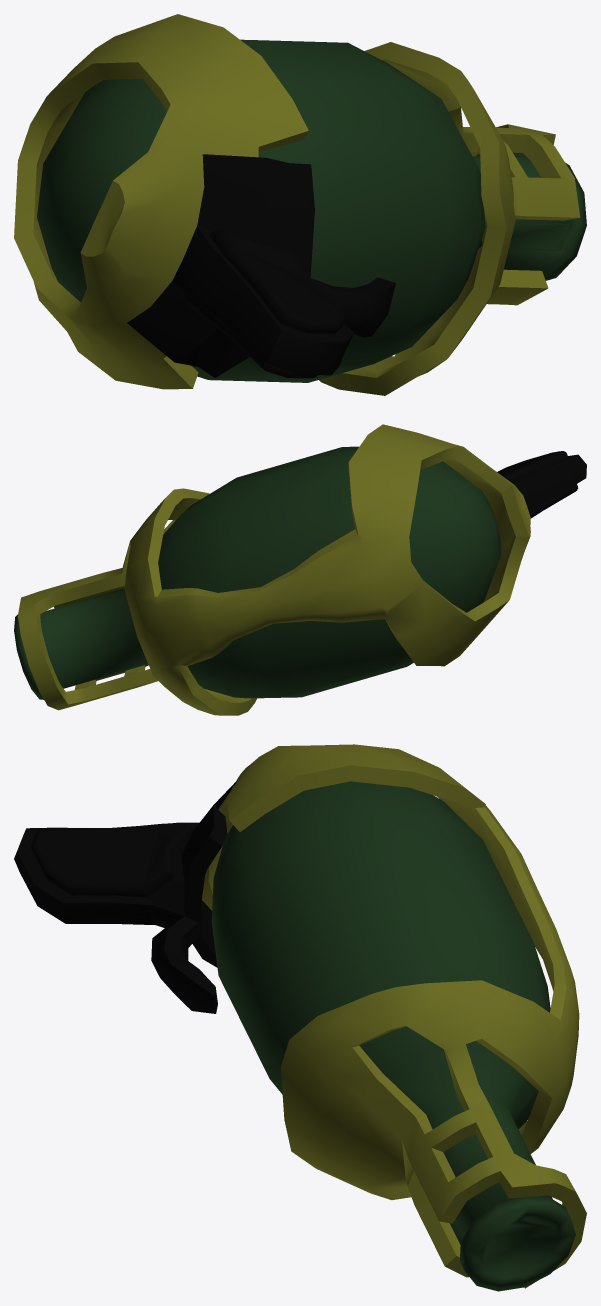
File: FirstPersonGun.glb
The picture shows the model from 3 angles, top to bottom: view 1: azimuth 30°, elevation 25°; view 2: azimuth 150°, elevation 25°; view 3: azimuth 270°, elevation 25°; orthographic projection. The views are drawn at different scales.
Parts seen in each view (by area): view 1: Gun; view 2: Gun; view 3: Gun.
Part boxes in pixels (left/top/right/bottom): Gun: left=14, top=14, right=586, bottom=395; Gun: left=14, top=424, right=586, bottom=715; Gun: left=14, top=744, right=586, bottom=1291.
Bounding box in the file's own units: 0.3319 × 0.2159 × 0.3029.
1 material, 1 textured.
